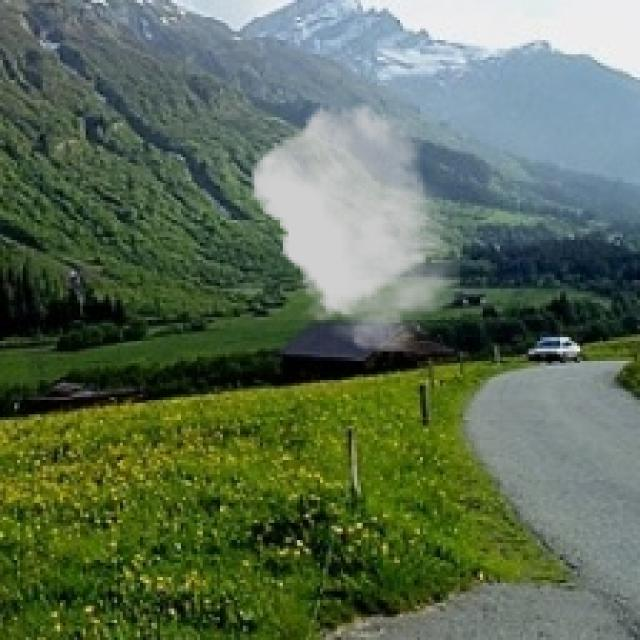smoke: (251, 103, 460, 351)
